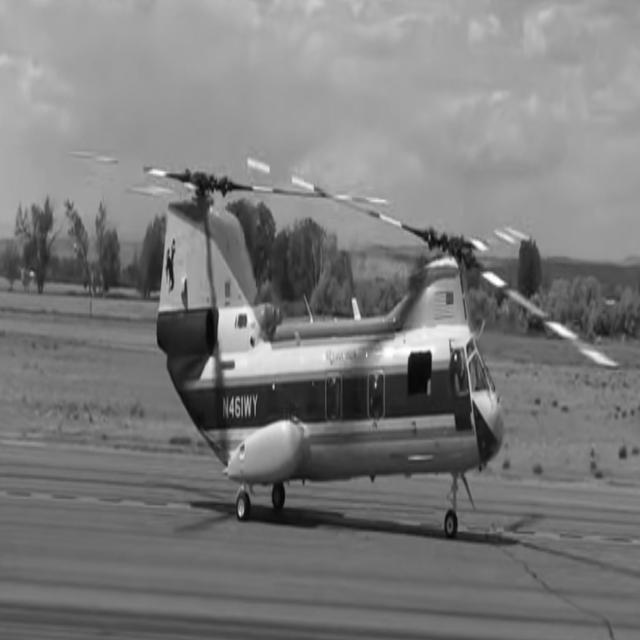Helicopter: (156, 175, 504, 539)
